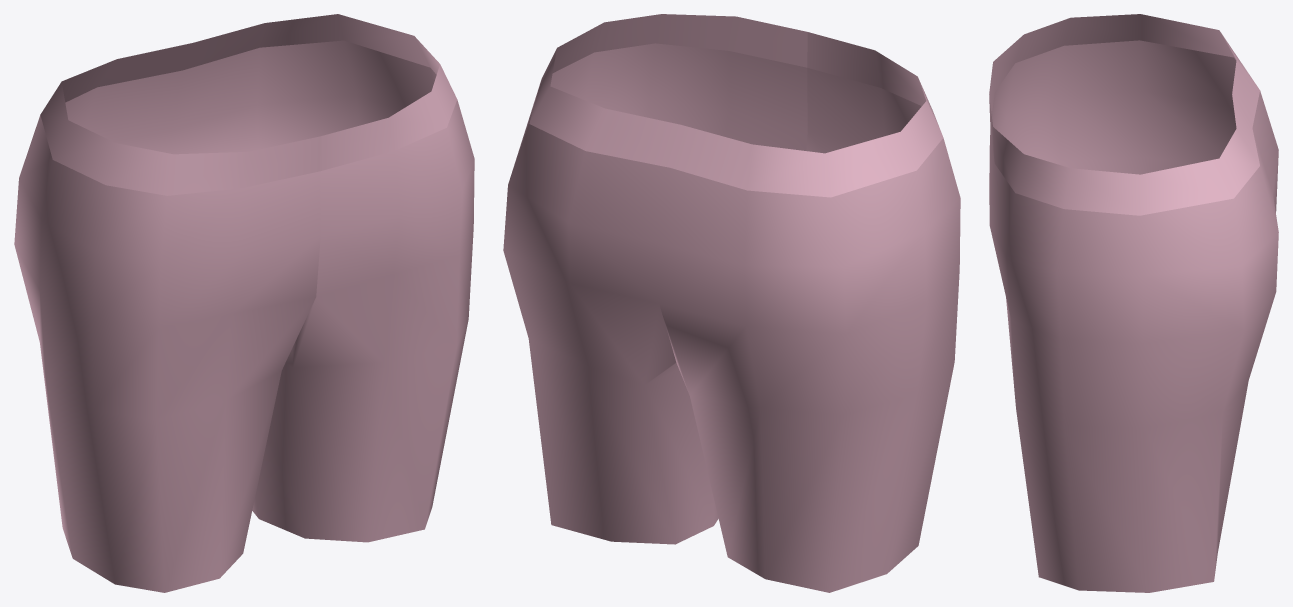
The model's file is pant.glb.
The picture shows the model from 3 angles, left to right: view 1: azimuth 30°, elevation 25°; view 2: azimuth 150°, elevation 25°; view 3: azimuth 270°, elevation 25°; orthographic projection. The views are drawn at different scales.
Visible parts, largest first — view 1: pant; view 2: pant; view 3: pant.
Boxes of the visible parts, box(x1,y1,x2,y2) form: pant: box(14, 14, 474, 592); pant: box(503, 14, 960, 592); pant: box(989, 14, 1278, 592).
Bounding box in the file's own units: 0.3278 × 0.3481 × 0.2156.
